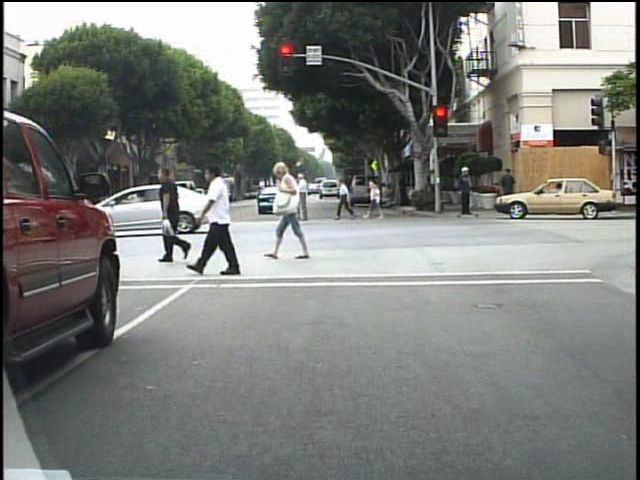person: (197, 160, 256, 279), (154, 160, 201, 267), (270, 161, 317, 264), (294, 170, 315, 225), (452, 163, 471, 221), (274, 175, 295, 224), (336, 174, 356, 224), (158, 177, 176, 231), (120, 177, 139, 226), (4, 189, 23, 237), (499, 166, 517, 213), (9, 197, 27, 237)
